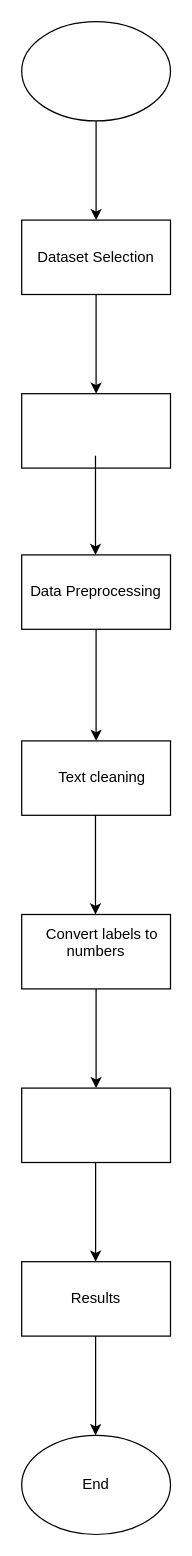
The diagram is 192 pixels wide and 1556 high, and some of its shapes have lost their labels. Here are the shapes that lost their labels. From the top down, the centre of each, then its label:
At pixel 95 70: "Start".
At pixel 95 430: "Data Loading (Pandas)".
At pixel 95 1124: "Train/Test Split".
